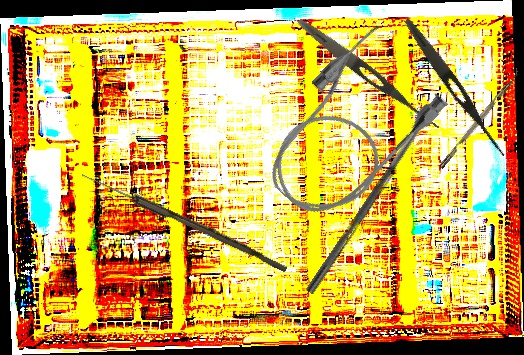Cannula: (243, 17, 456, 237)
Chopper: (434, 66, 523, 169)
Dressing Forceps: (293, 14, 445, 134), (400, 15, 511, 160)
Surgical Spoon: (305, 110, 435, 296), (79, 170, 290, 273)
